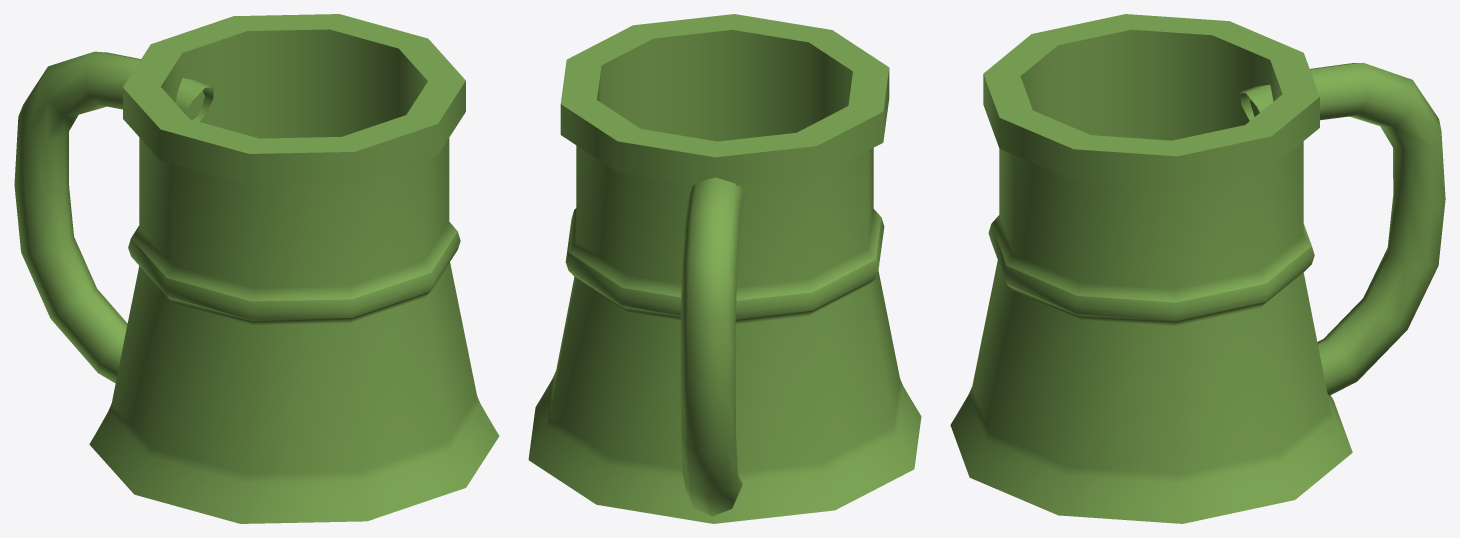
Rendered from Mug.fbx.
The picture shows the model from 3 angles, left to right: view 1: azimuth 30°, elevation 25°; view 2: azimuth 150°, elevation 25°; view 3: azimuth 270°, elevation 25°; orthographic projection.
Visible parts, largest first — view 1: Mug; view 2: Mug; view 3: Mug.
Part boxes in pixels (box(x1,y1,x2,y2)): Mug: box(14, 14, 499, 523); Mug: box(528, 14, 921, 523); Mug: box(950, 14, 1445, 523).
Size of the model in its own units: 24.83 by 24.26 by 30.52.
